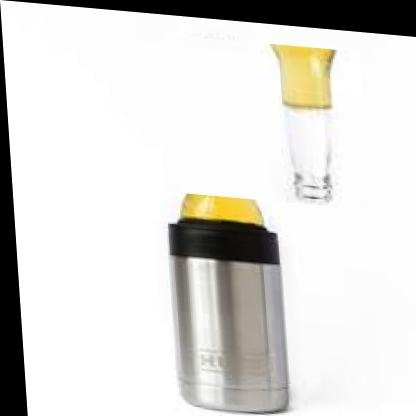trash: (169, 194, 287, 411), (272, 45, 334, 200)
